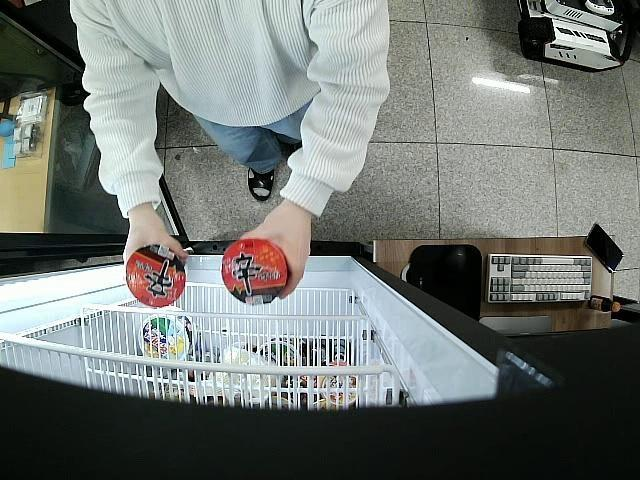02_shinRamen_S: (222, 236, 288, 306), (126, 241, 186, 306)
